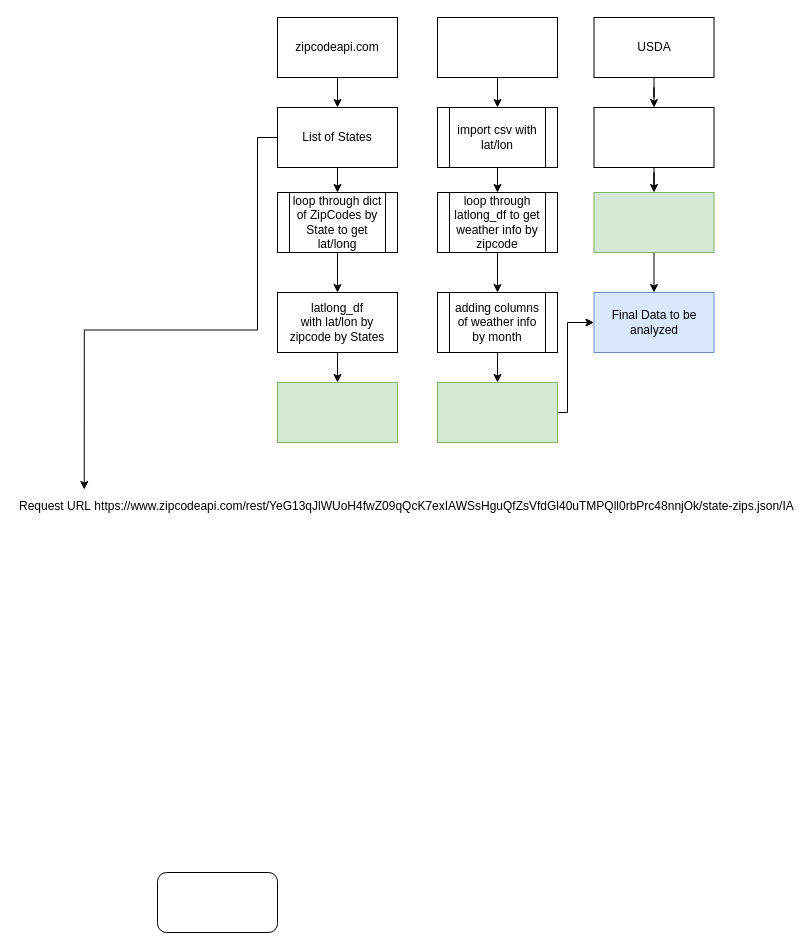
Some shapes in this 811 by 950 pixel diagram are drawn without their labels. Each missing label, with the box of its shape:
create new DF with Weather info AVGs by State by month: (436, 382, 558, 442)
merge with avg_temp_df: (593, 192, 714, 252)
output .to_csv(): (276, 382, 398, 442)
OW: (436, 16, 558, 78)
raw data: (593, 106, 714, 168)
